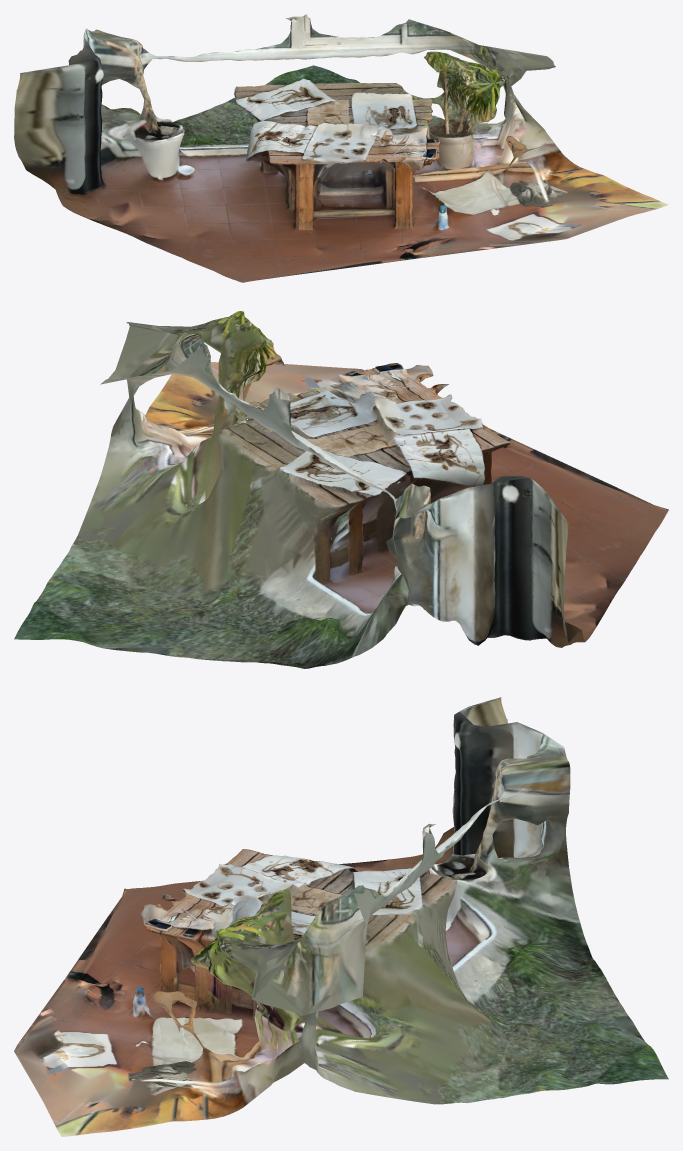
The picture shows the model from 3 angles, top to bottom: view 1: azimuth 30°, elevation 25°; view 2: azimuth 150°, elevation 25°; view 3: azimuth 270°, elevation 25°; orthographic projection. The views are drawn at different scales.
Parts seen in each view (by area): view 1: photogrammetry; view 2: photogrammetry; view 3: photogrammetry.
Boxes of the visible parts, x1,y1,x2,y2 form: photogrammetry: (14, 14, 668, 282); photogrammetry: (14, 311, 668, 668); photogrammetry: (14, 697, 668, 1136).
Size of the model in its own units: 3.93 by 1.19 by 3.73.
Materials: 1 (1 with a texture image).
